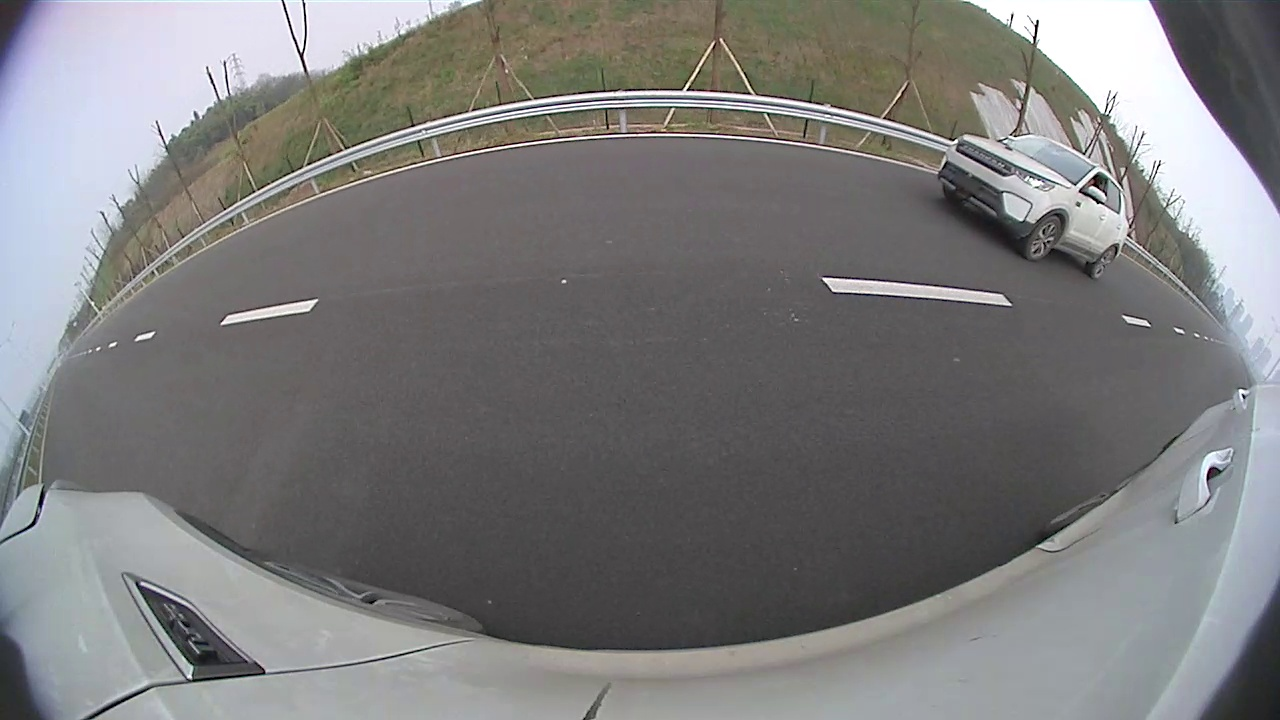car: (937, 133, 1130, 280)
front: (1027, 214, 1063, 262)
rear: (1092, 246, 1117, 282)
